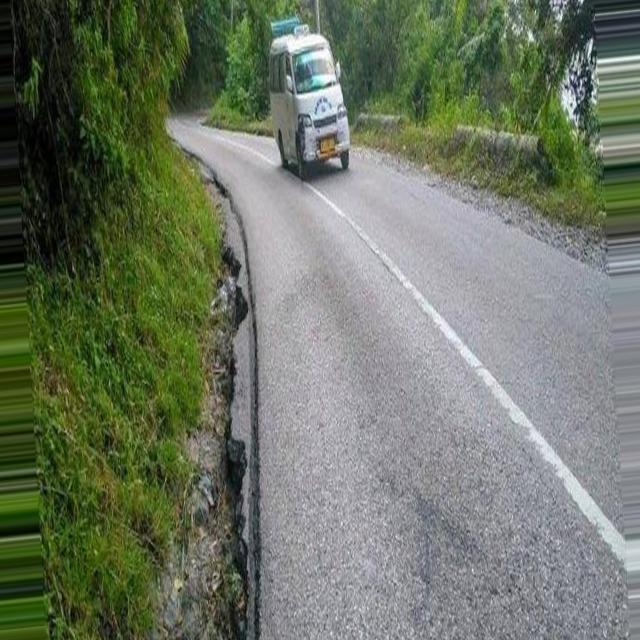Pinggir: (192, 162, 280, 640)
